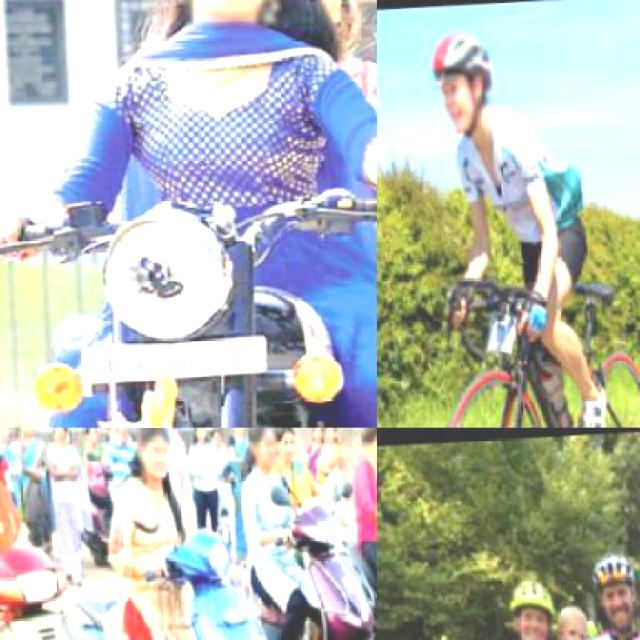With Helmet: (424, 26, 498, 136), (500, 568, 562, 638), (590, 546, 638, 636)
Without Helmet: (172, 0, 308, 34), (132, 428, 180, 474), (244, 428, 282, 474), (357, 428, 375, 457)
